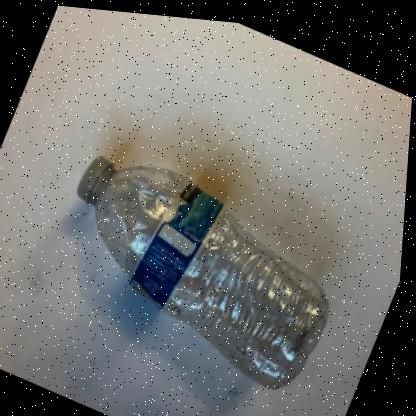Plastic: (79, 153, 333, 383)
